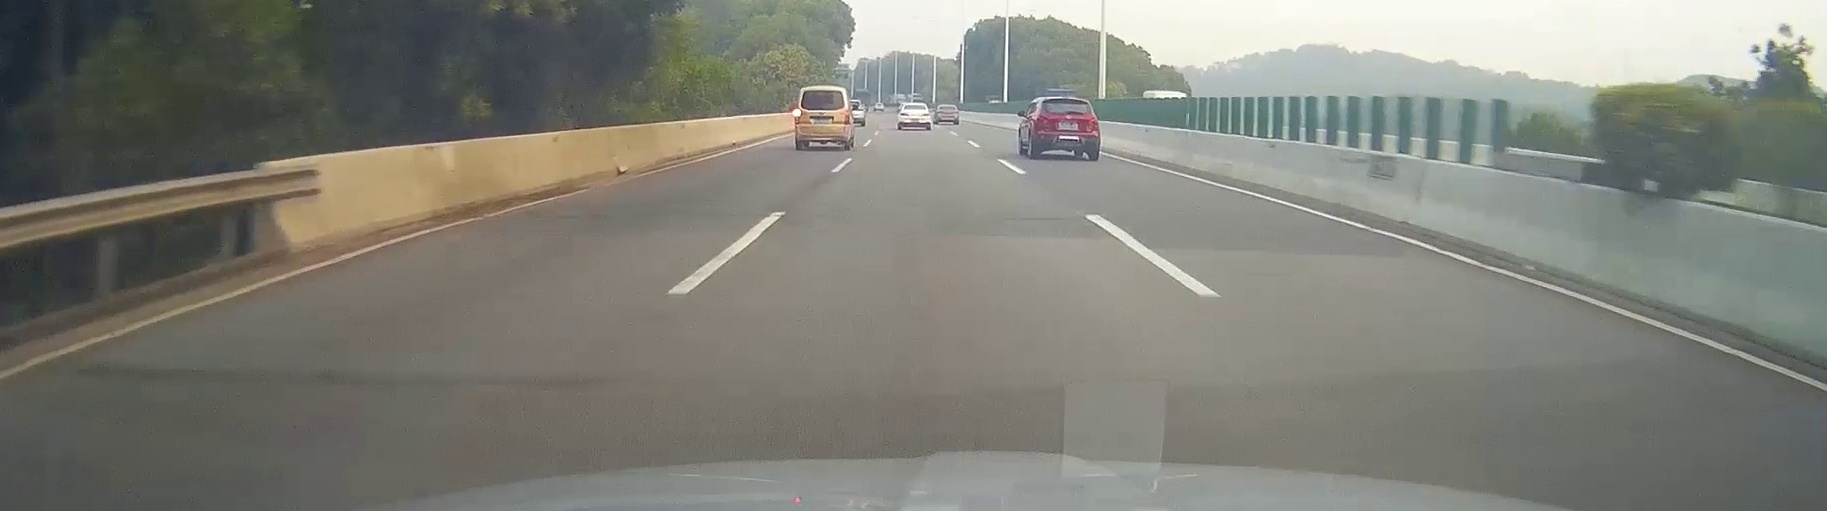L_light: (1036, 114, 1047, 122), (795, 108, 800, 123)
R_light: (1087, 115, 1096, 125), (844, 111, 849, 123)
T_light: (817, 90, 828, 93), (1063, 100, 1074, 102)
day-left: (795, 87, 849, 150)
day-no: (1034, 97, 1100, 159)
